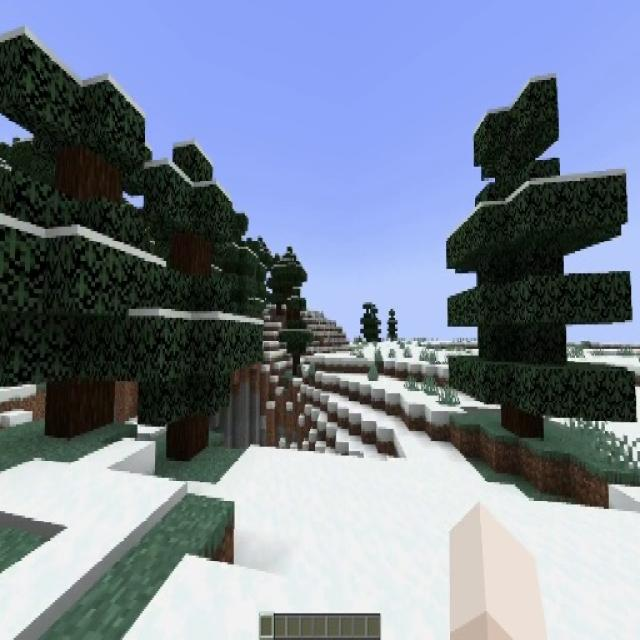spruce: (448, 77, 638, 441), (0, 50, 151, 440), (140, 137, 262, 463), (280, 295, 310, 373), (360, 300, 382, 344), (387, 310, 398, 338)
spruce_log: (46, 374, 112, 439), (167, 410, 209, 461), (502, 402, 544, 437)
